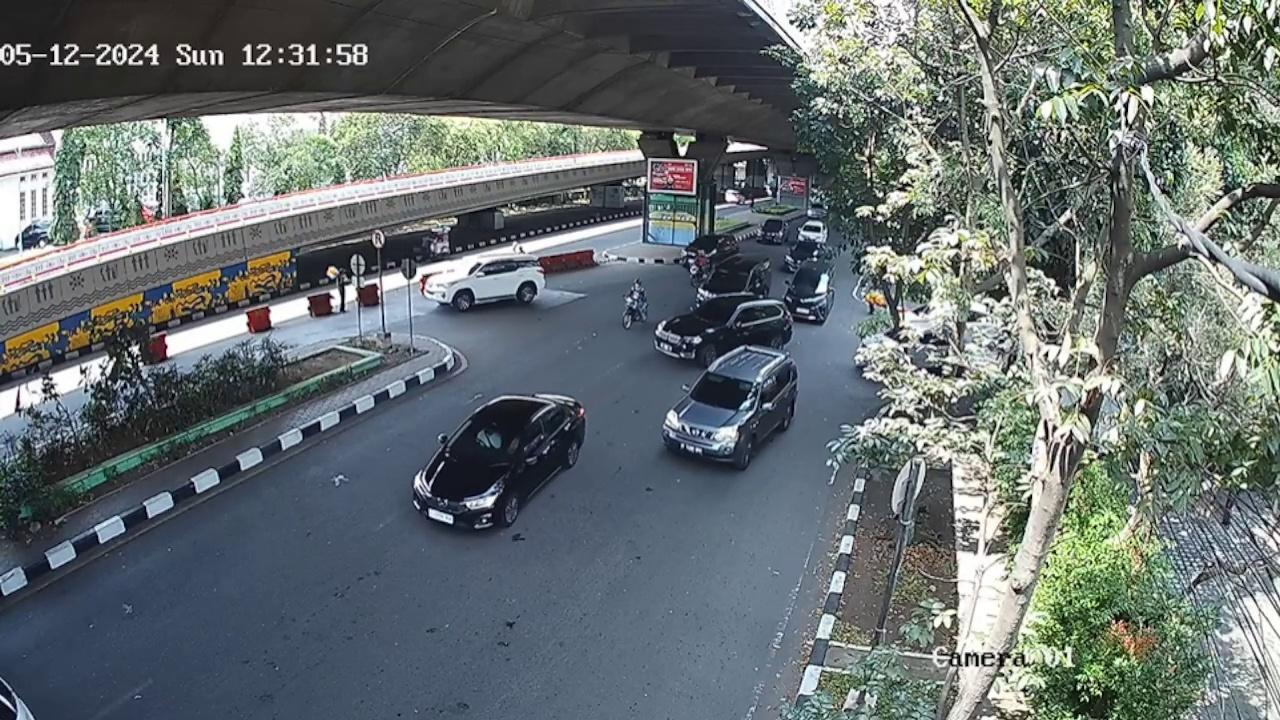pakai: (476, 428, 507, 456)
windshield: (446, 417, 522, 471), (692, 368, 764, 417)
